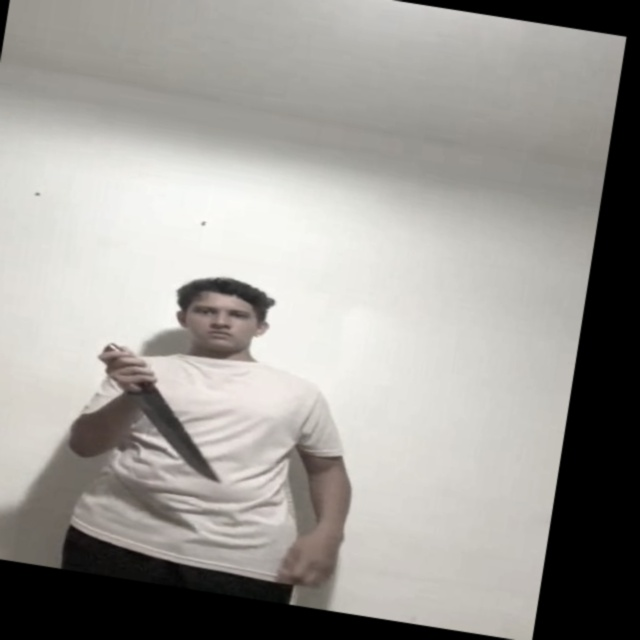Sharp-Object: (124, 388, 229, 479)
